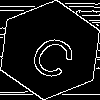C: (25, 25, 86, 83)
